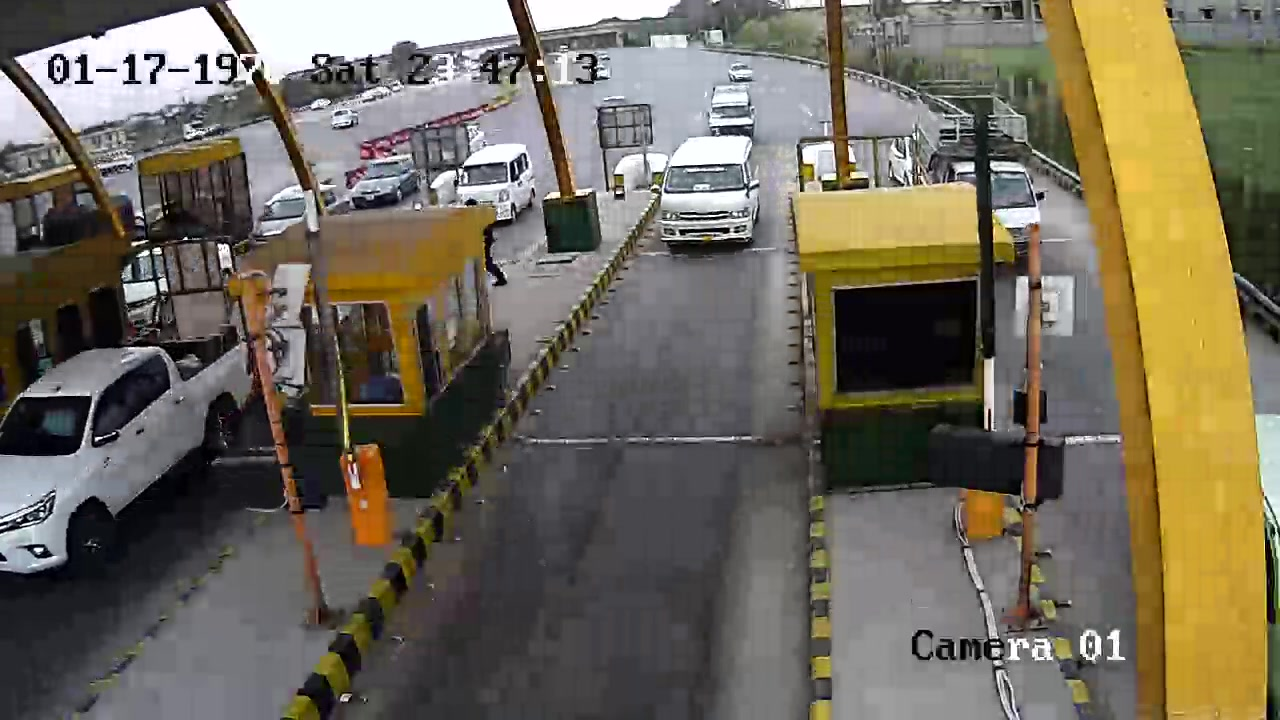F3: (658, 132, 760, 249)
